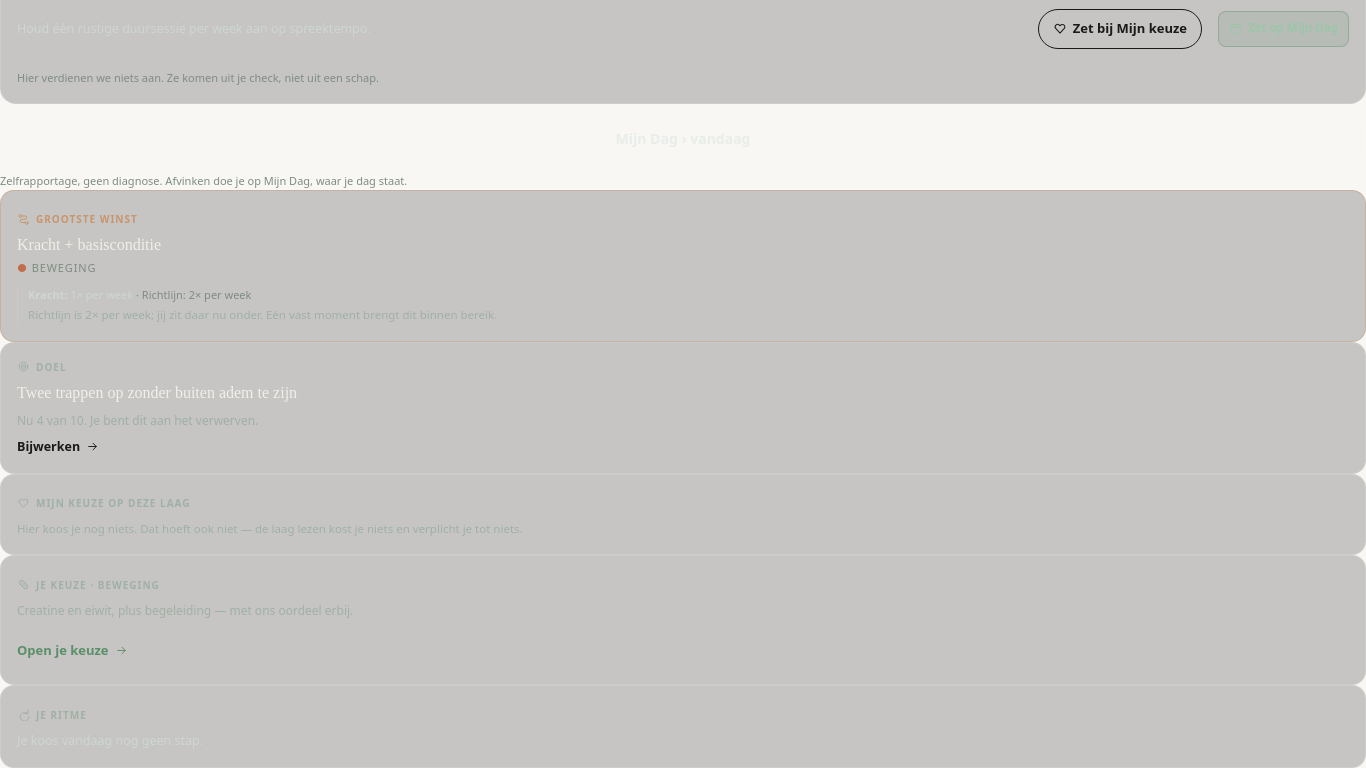
Contextkolom — zone: doel › kiest 'Ander doel kiezen' voor het volledige zetmoment, niet voor inline herscoren
(page scrolled)
Click the button named "Bijwerken".
click(157, 393)  # box [17, 383, 1349, 457]
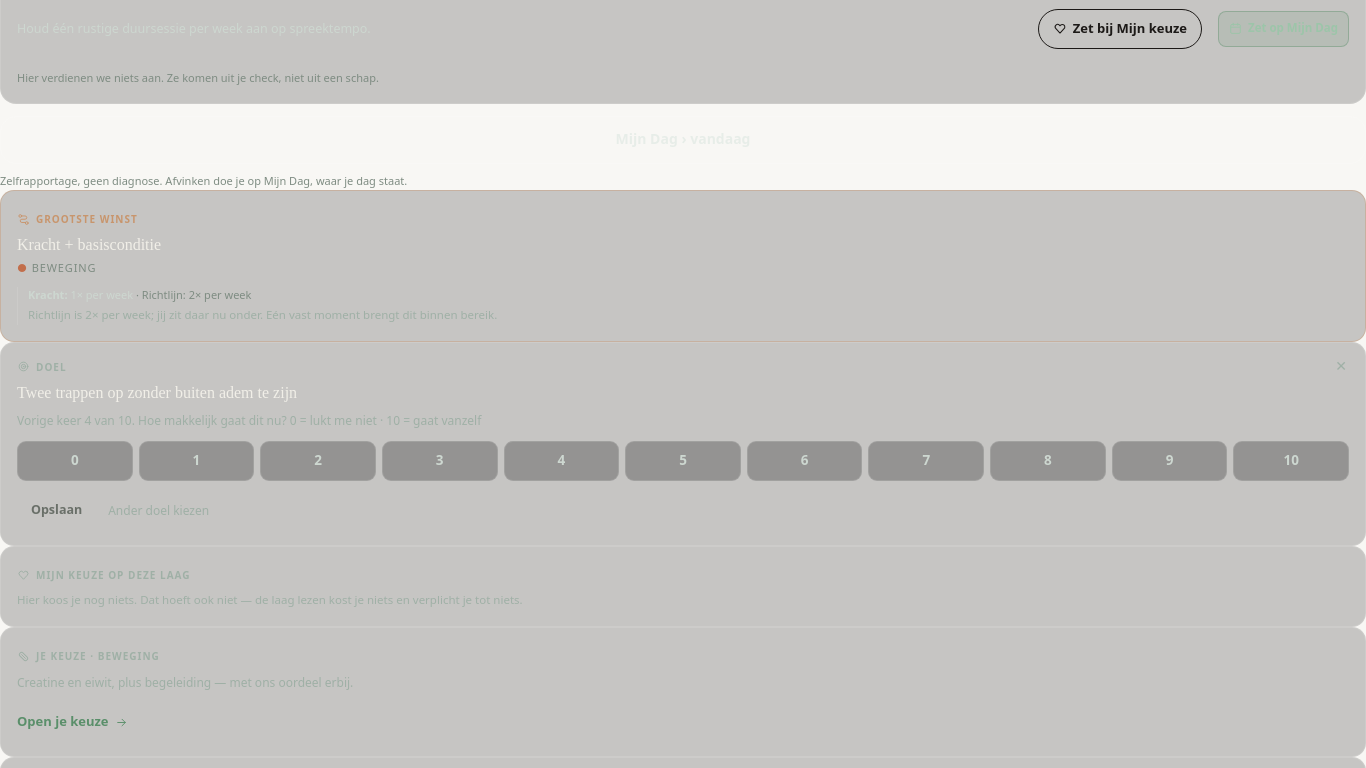
Click the button "Ander doel kiezen".
click(159, 511)  # box [108, 501, 209, 520]
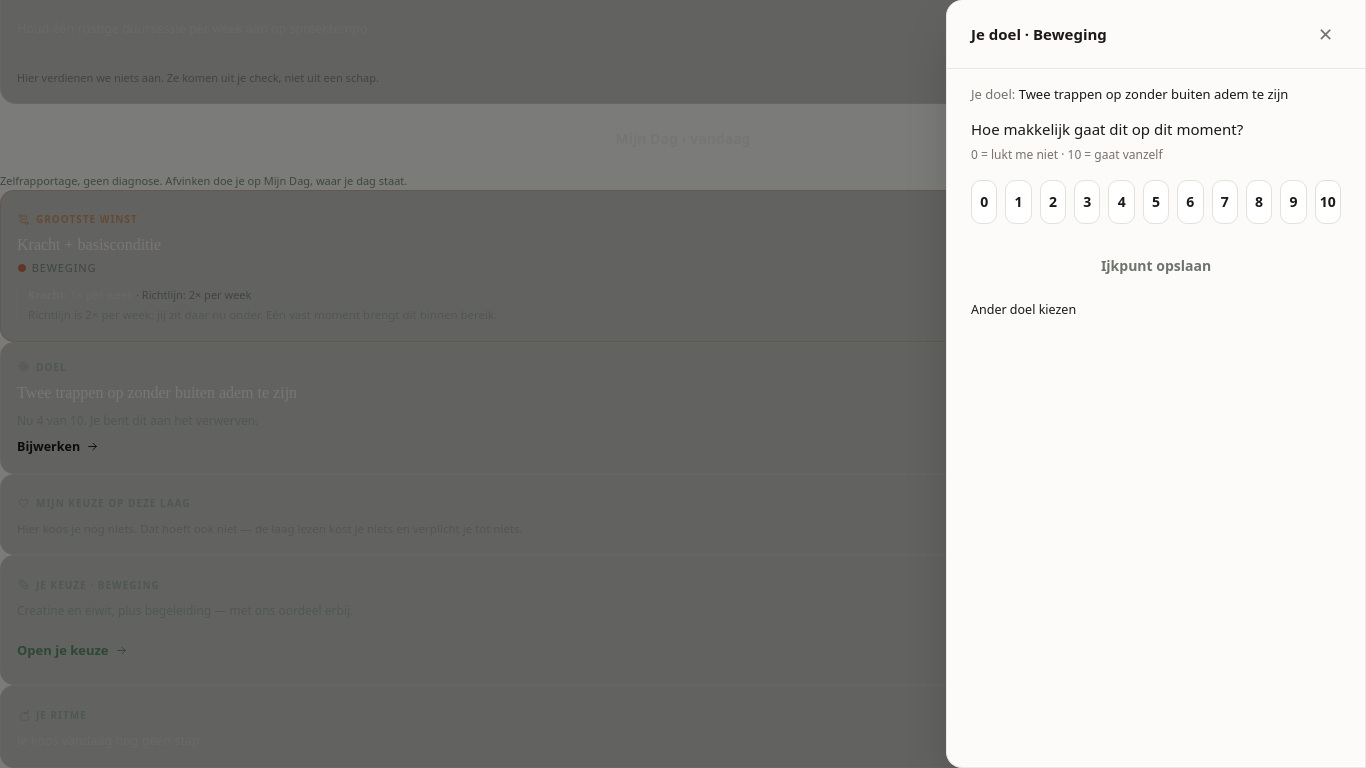
Now the dialog "Je doel" is shown, box [946, 0, 1365, 767]
